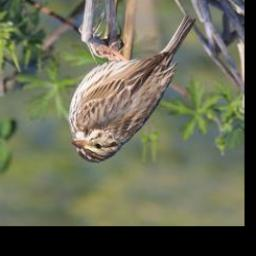Sparrow: (67, 14, 196, 164)
